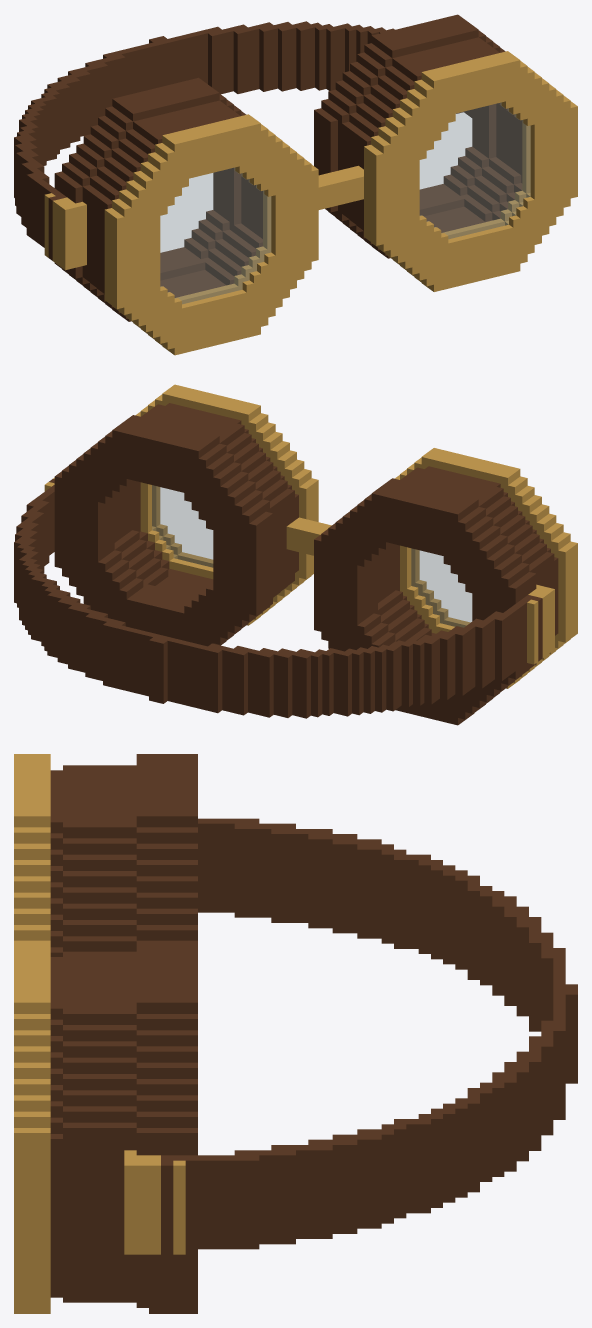
Rendered from glass_goggles.glb.
The picture shows the model from 3 angles, top to bottom: view 1: azimuth 30°, elevation 25°; view 2: azimuth 150°, elevation 25°; view 3: azimuth 270°, elevation 25°; orthographic projection. The views are drawn at different scales.
Parts seen in each view (by area): view 1: glass_goggles:compound; view 2: glass_goggles:compound; view 3: glass_goggles:compound.
Part boxes in pixels (x1,y1,x2,y2): glass_goggles:compound: [14, 14, 577, 355]; glass_goggles:compound: [14, 384, 577, 725]; glass_goggles:compound: [14, 754, 577, 1313].
Size of the model in its own units: 0.136 by 0.056 by 0.092.
